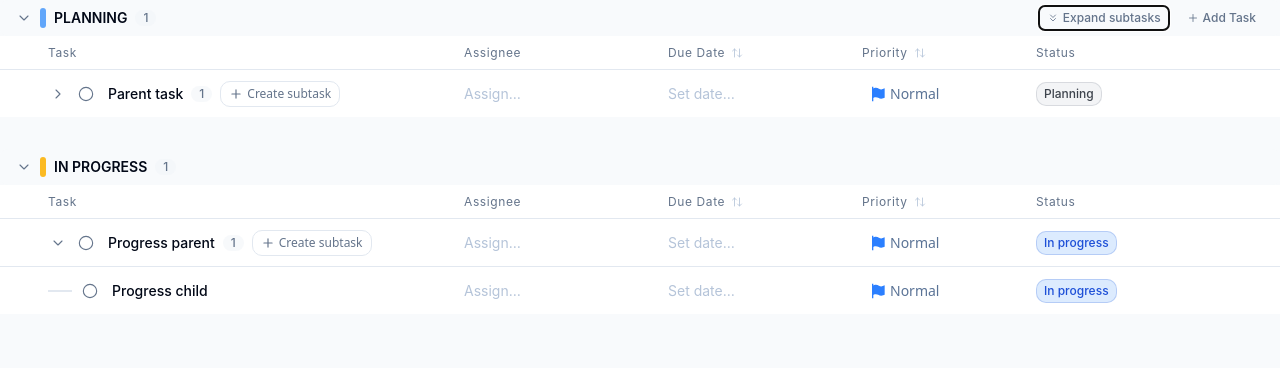
Test: ClickUpTaskList stage subtask controls › collapses and expands every subtask in one stage without collapsing the whole stage
This screenshot has width=1280, height=368.
Earlier steps of the test are not shown.
Expected: the text "Parent task" is shown, [108,84,183,104]
Expected: the text "Child task" is not shown
Click the button with aria-label "Expand subtasks in Planning" at (1104, 18), box [1039,6,1169,30]
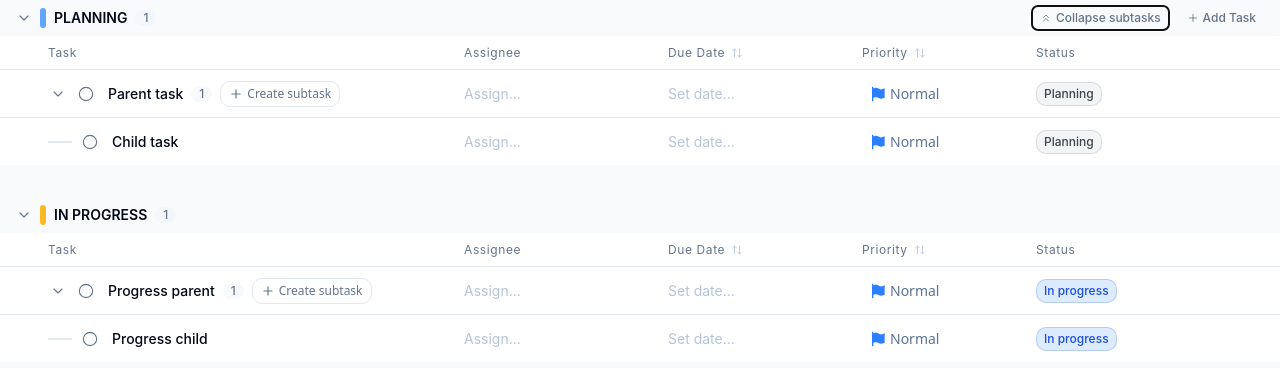
Now the text "Child task" is shown, box [112,132,178,152]
